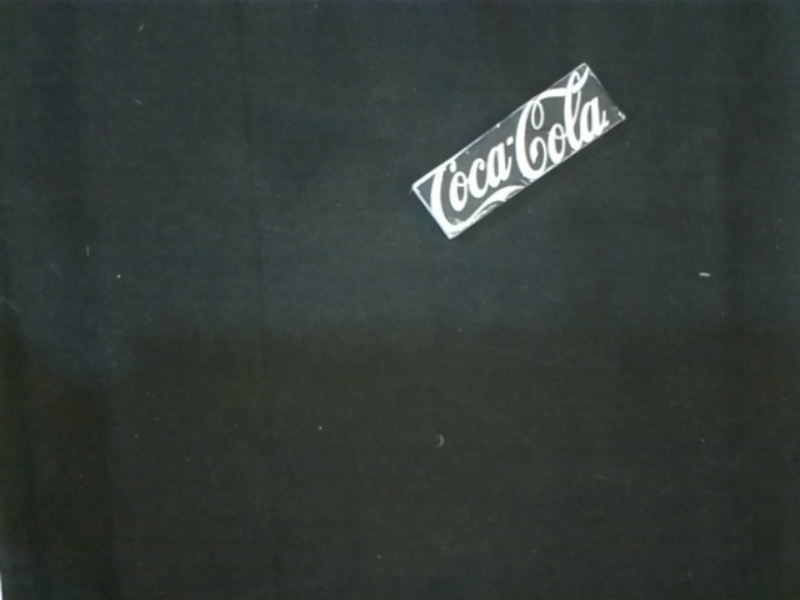coca-cola: (405, 67, 633, 240)
